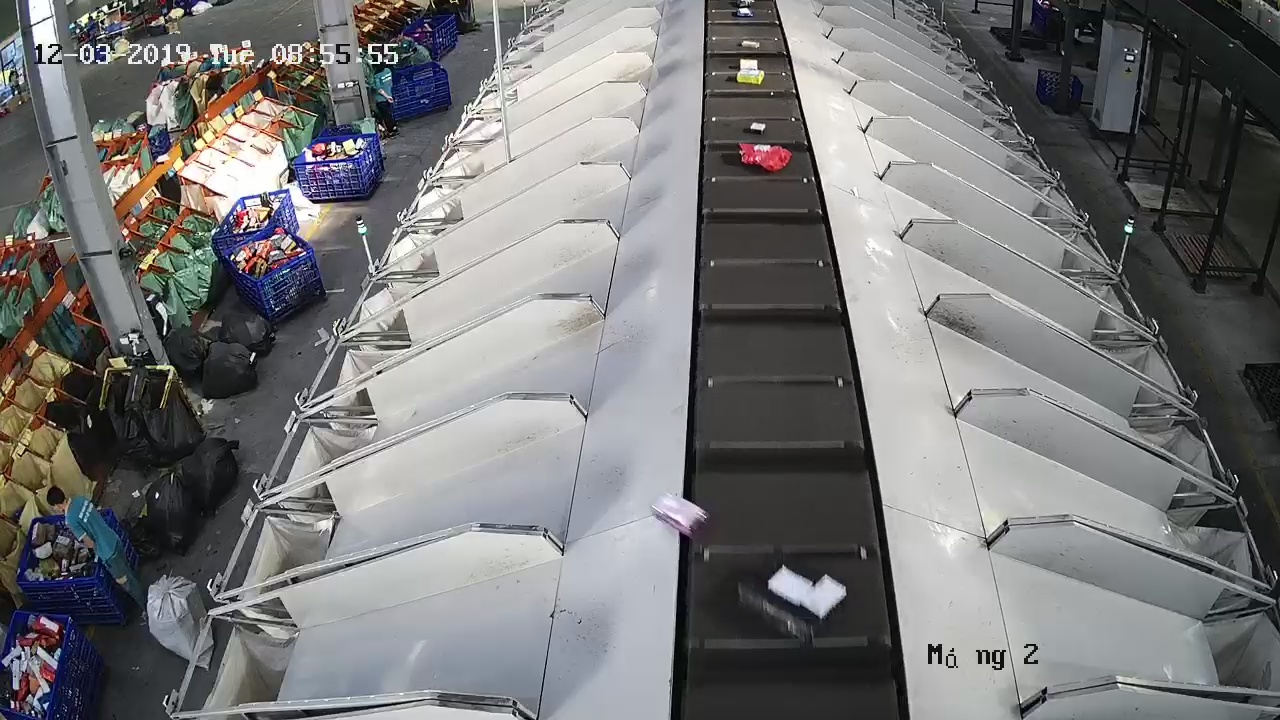parcel: (735, 556, 848, 643), (650, 491, 711, 540), (738, 140, 794, 172), (748, 121, 768, 136)
